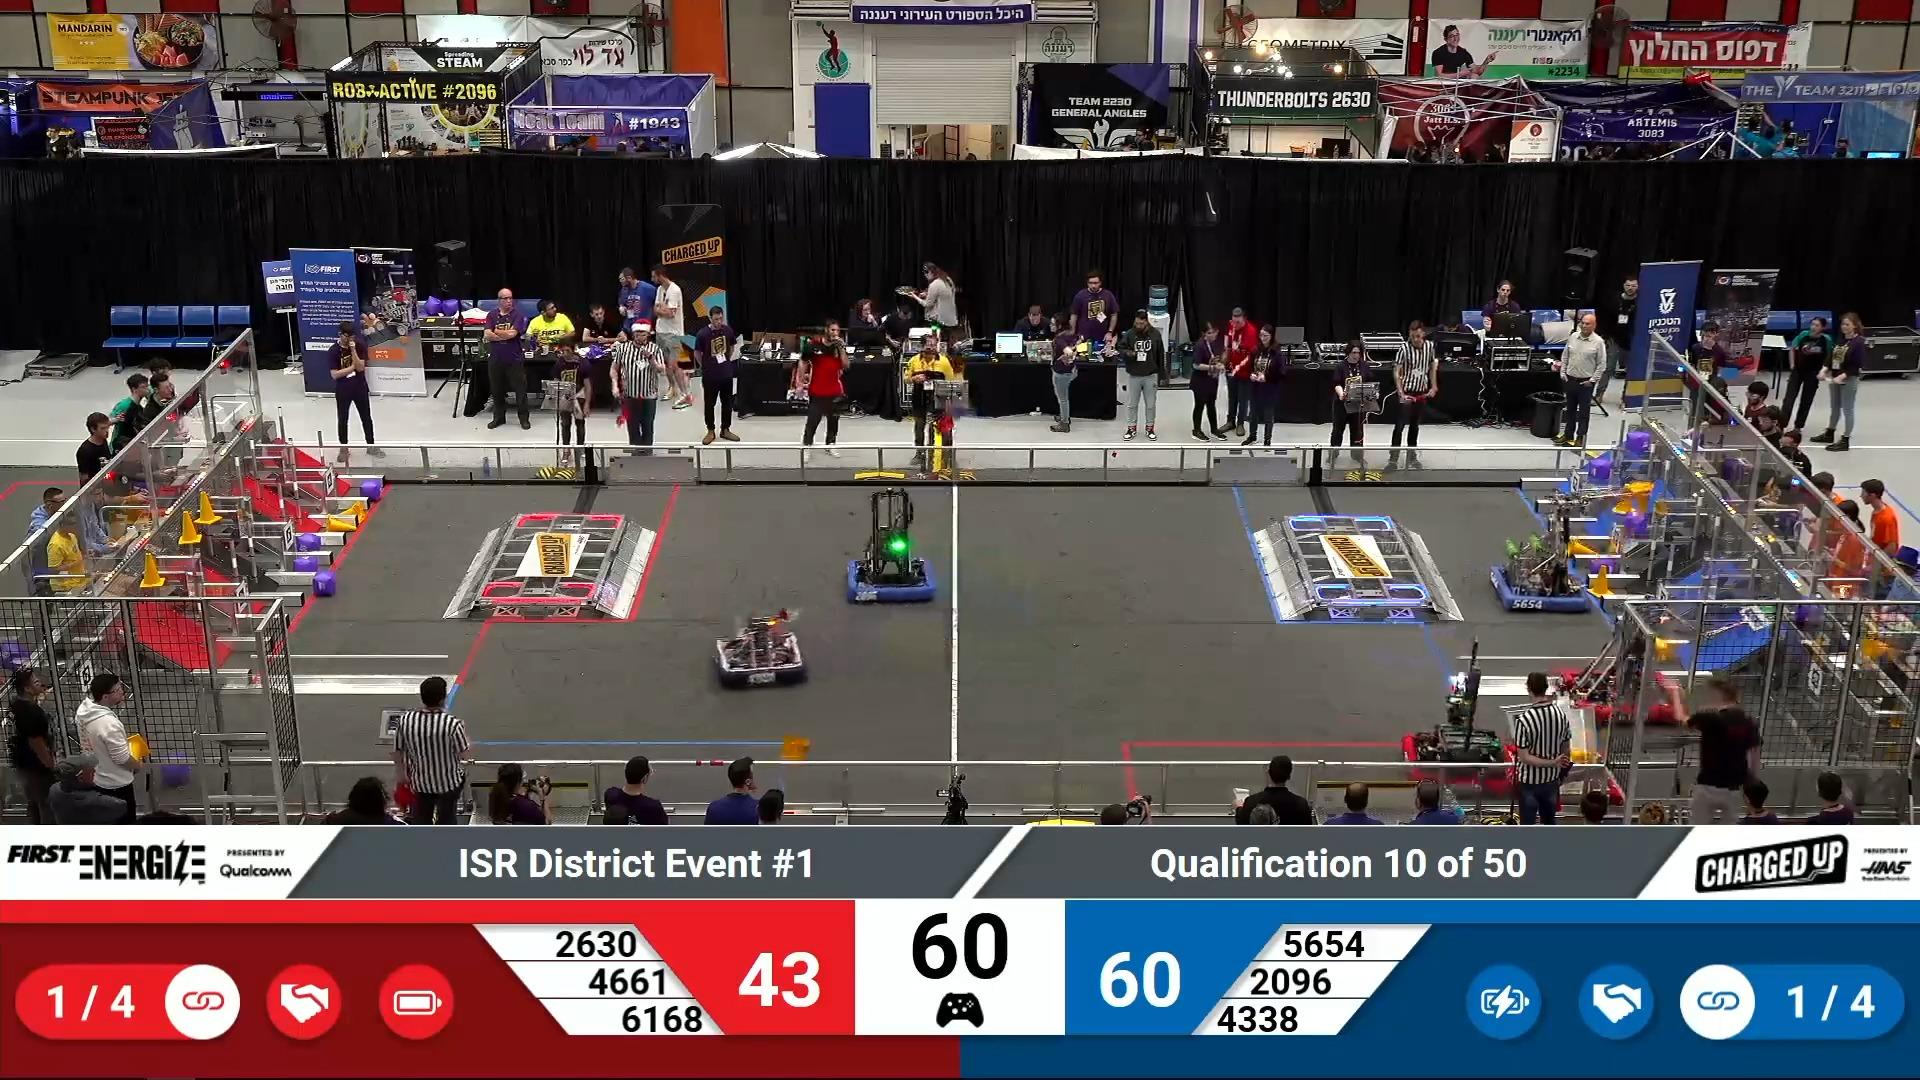robot: (1552, 633, 1688, 725), (1497, 725, 1630, 808), (1398, 715, 1519, 800), (1493, 527, 1593, 616), (847, 510, 936, 607), (709, 612, 812, 695)
